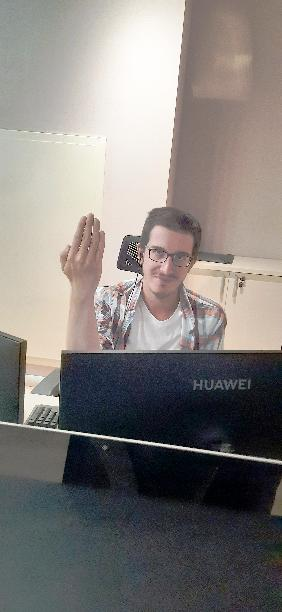Paper: (56, 210, 111, 287)
